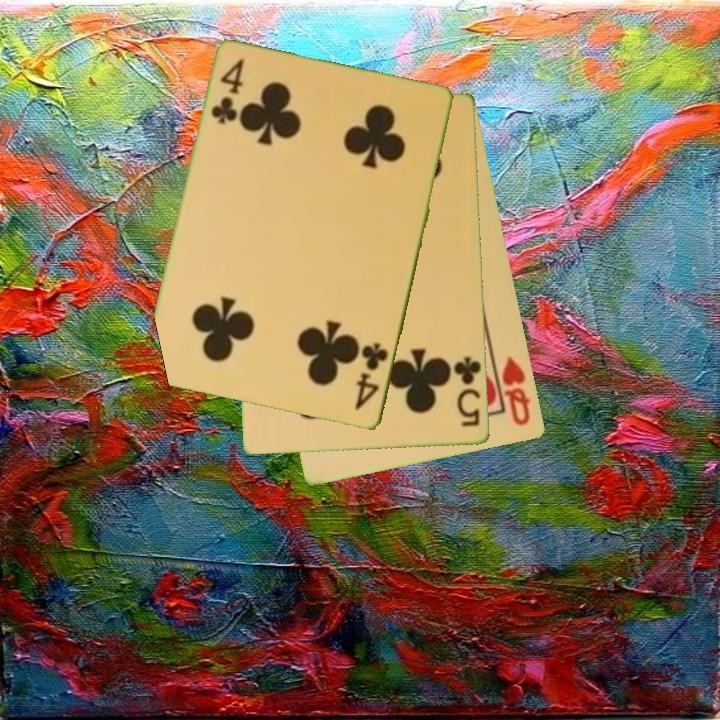4c: (351, 340, 392, 413), (208, 55, 248, 128)
5c: (451, 354, 484, 430)
Qh: (499, 353, 534, 429)
